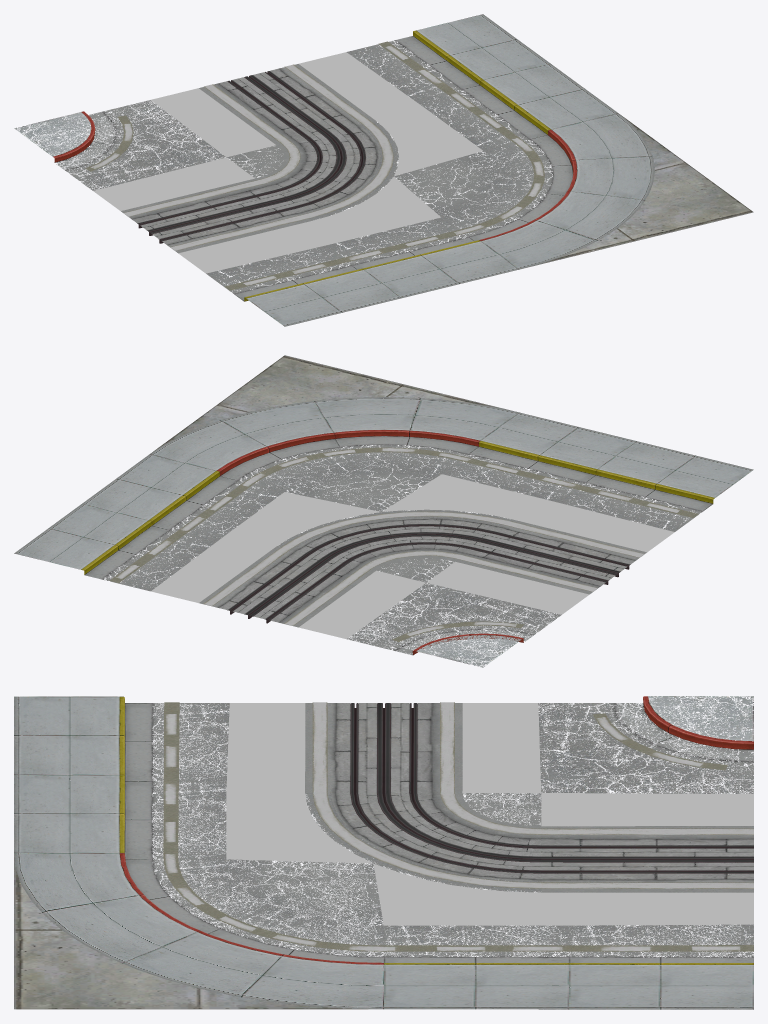
The model's file is RoadRail_Turn.obj.
3 renders of one model, top to bottom at view 1: azimuth 30°, elevation 25°; view 2: azimuth 150°, elevation 25°; view 3: azimuth 270°, elevation 25°, orthographic. The views are drawn at different scales.
Visible parts, largest first — view 1: RoadRail_Turn; view 2: RoadRail_Turn; view 3: RoadRail_Turn.
Boxes of the visible parts, x1,y1,x2,y2 form: RoadRail_Turn: (14, 14, 753, 326); RoadRail_Turn: (14, 355, 753, 667); RoadRail_Turn: (14, 696, 753, 1009).
Size of the model in its own units: 20 by 0.349 by 20.
